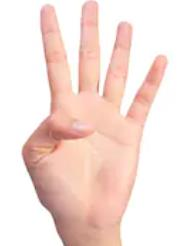right: (14, 1, 170, 224)
